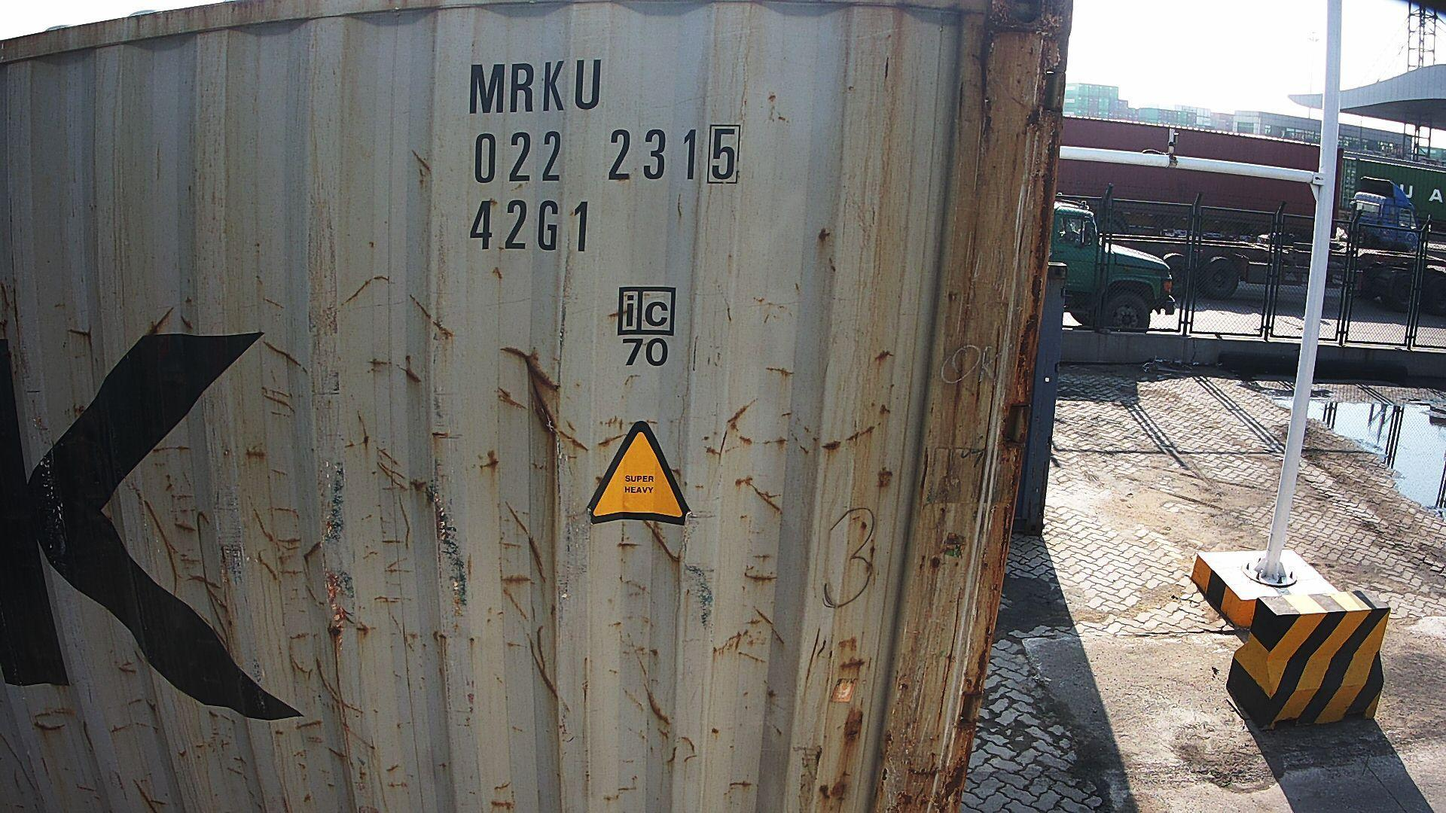container-numbers: (468, 122, 745, 190), (461, 56, 602, 120), (469, 199, 598, 259)
